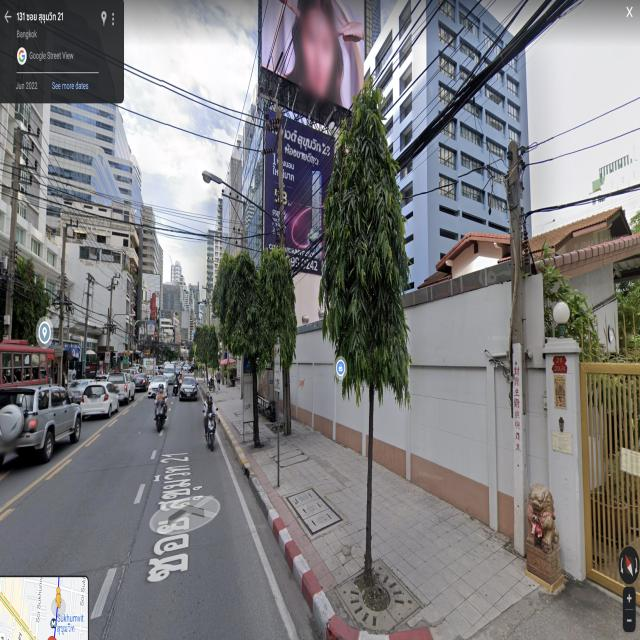tree: (320, 74, 424, 600), (212, 242, 303, 464), (3, 252, 53, 341), (189, 316, 227, 386)
